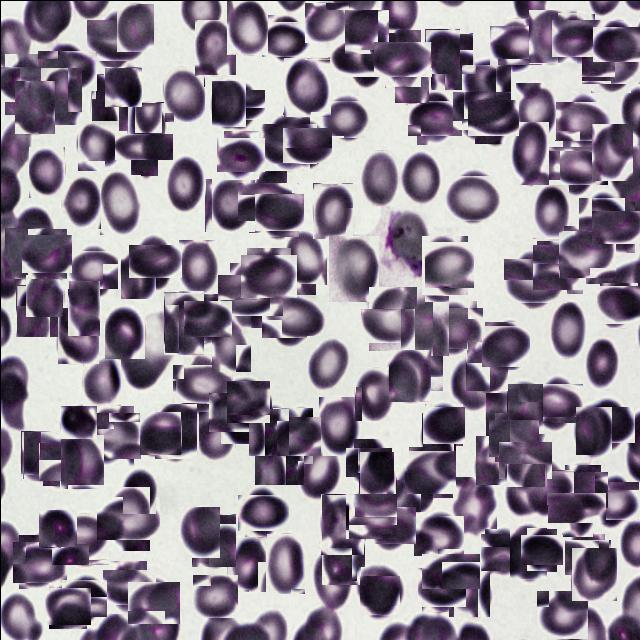red blood cell: (328, 235, 378, 301), (253, 418, 303, 484), (364, 290, 420, 346), (334, 27, 390, 82), (52, 512, 108, 566), (399, 294, 448, 355), (266, 288, 320, 342), (508, 252, 562, 306), (282, 56, 330, 116), (223, 268, 277, 321), (84, 408, 136, 462), (100, 492, 154, 544), (418, 238, 470, 291), (451, 476, 496, 537), (99, 170, 140, 236), (447, 171, 499, 223), (560, 228, 612, 280), (204, 178, 254, 232), (297, 438, 341, 499), (214, 386, 266, 437), (528, 9, 576, 64), (320, 493, 363, 554), (550, 139, 601, 190), (40, 45, 91, 95), (163, 291, 203, 354), (448, 354, 492, 411), (176, 358, 226, 408), (243, 250, 293, 300), (242, 176, 292, 226), (534, 242, 584, 292), (536, 588, 586, 638), (570, 546, 616, 600), (306, 336, 350, 392), (90, 15, 140, 64), (39, 66, 81, 124), (59, 433, 103, 488), (430, 304, 480, 352), (586, 38, 634, 88), (346, 492, 396, 540), (430, 32, 472, 89), (265, 532, 304, 593), (154, 404, 197, 459), (318, 396, 358, 455), (14, 207, 54, 266), (313, 547, 351, 609), (162, 65, 204, 121), (264, 118, 313, 166), (400, 334, 442, 390), (458, 85, 506, 134), (591, 123, 632, 180), (191, 513, 235, 566), (511, 121, 548, 184), (447, 561, 489, 616), (558, 96, 606, 144), (531, 378, 579, 426), (15, 537, 63, 585), (520, 462, 568, 510), (406, 448, 454, 496), (268, 411, 316, 459), (194, 20, 235, 76), (57, 307, 98, 363), (515, 82, 555, 139), (90, 73, 130, 130), (210, 314, 250, 371), (284, 230, 326, 284), (426, 547, 474, 594), (130, 578, 177, 626), (378, 35, 426, 82), (312, 182, 352, 238), (15, 284, 58, 336), (165, 155, 204, 212), (226, 0, 267, 54), (0, 59, 46, 107), (178, 240, 217, 296), (359, 149, 398, 205), (226, 535, 265, 591), (504, 463, 546, 515), (388, 349, 430, 401), (354, 366, 394, 420), (104, 304, 144, 358), (400, 150, 439, 205), (14, 80, 54, 133), (492, 22, 538, 68), (588, 478, 634, 524), (482, 322, 528, 368), (465, 340, 507, 390), (76, 119, 117, 170), (549, 301, 586, 357), (415, 513, 461, 558), (502, 437, 548, 482), (61, 175, 100, 228), (20, 430, 61, 480), (475, 436, 516, 486), (4, 227, 44, 278), (179, 506, 219, 557), (412, 94, 456, 140), (584, 402, 630, 446), (554, 484, 598, 530), (509, 526, 546, 580), (193, 573, 237, 618), (106, 564, 150, 609), (344, 9, 388, 54), (247, 407, 288, 455), (532, 184, 568, 238), (324, 96, 368, 140), (70, 247, 114, 291), (240, 490, 284, 534), (418, 564, 462, 608), (368, 502, 412, 546), (554, 16, 598, 60), (491, 415, 535, 459), (132, 239, 176, 283), (470, 95, 514, 139), (24, 231, 68, 275), (82, 355, 120, 405), (122, 124, 165, 168), (356, 566, 404, 605), (421, 412, 455, 467), (115, 2, 153, 51), (319, 539, 362, 582), (560, 468, 604, 510), (186, 296, 228, 340), (225, 380, 269, 422), (28, 146, 64, 197), (584, 336, 618, 390), (574, 405, 611, 454), (465, 60, 507, 103), (596, 205, 638, 248), (40, 440, 82, 483), (138, 412, 181, 454), (285, 124, 328, 166), (258, 190, 300, 233), (119, 248, 155, 298), (485, 392, 524, 438), (67, 279, 99, 335), (198, 411, 234, 460), (264, 18, 306, 60), (220, 133, 262, 175), (482, 530, 524, 572), (306, 1, 348, 43), (597, 284, 639, 326), (63, 576, 105, 618), (46, 584, 88, 626), (126, 101, 164, 147), (395, 464, 432, 511), (506, 382, 542, 430), (394, 54, 428, 104), (566, 536, 607, 577), (580, 194, 622, 234), (596, 22, 636, 64), (359, 576, 399, 616), (423, 404, 463, 444), (26, 274, 64, 316), (424, 28, 459, 73), (211, 80, 245, 126), (103, 66, 141, 106), (358, 450, 393, 493), (223, 85, 261, 124), (122, 469, 155, 513), (349, 442, 387, 480), (38, 510, 76, 548), (523, 532, 559, 568), (60, 405, 96, 438)
trophozoite: (345, 207, 424, 308)
